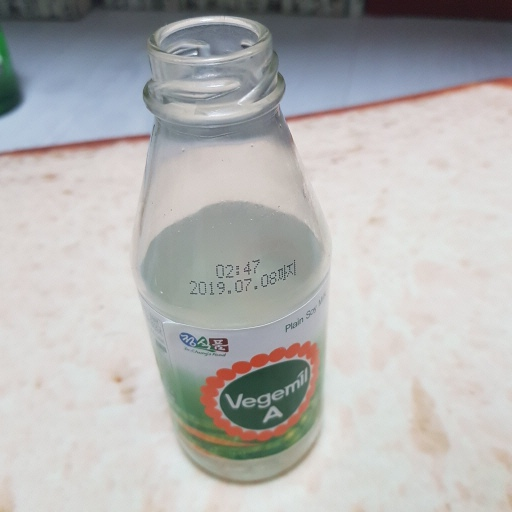Glass_4: (137, 15, 340, 483)
